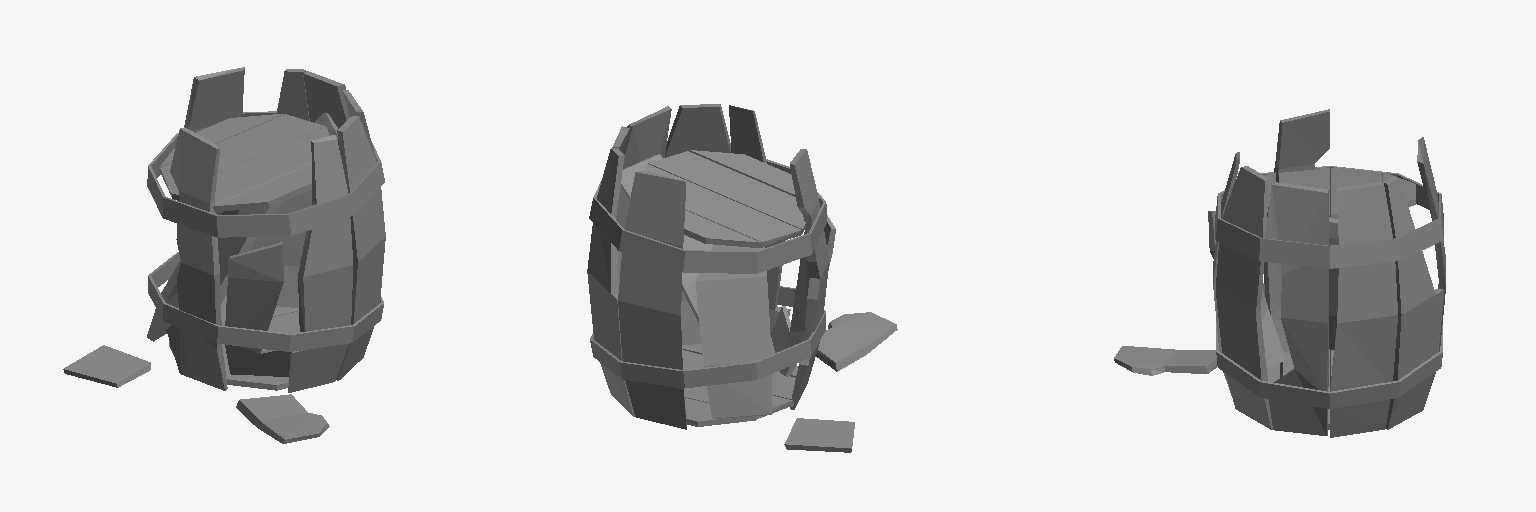
File: barrel_broken.obj
The picture shows the model from 3 angles: view 1: azimuth 30°, elevation 25°; view 2: azimuth 150°, elevation 25°; view 3: azimuth 270°, elevation 25°; orthographic projection.
Size of the model in its own units: 1.08 by 0.9261 by 1.12.